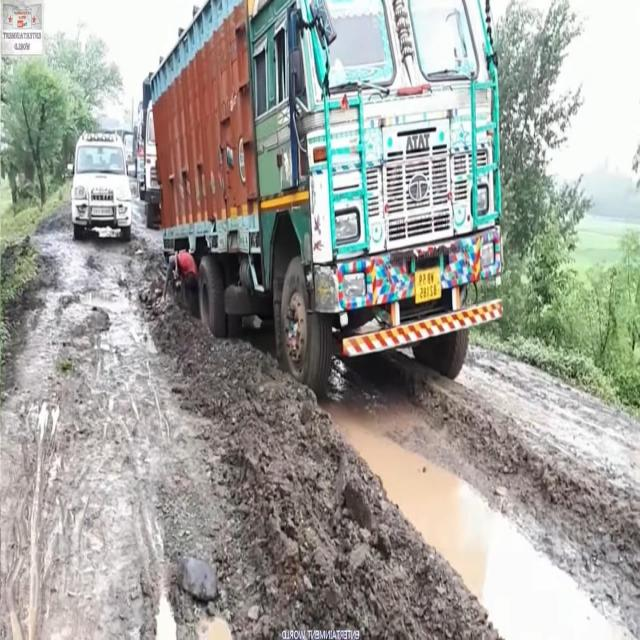car: (68, 123, 137, 257)
truck: (142, 2, 513, 406)
